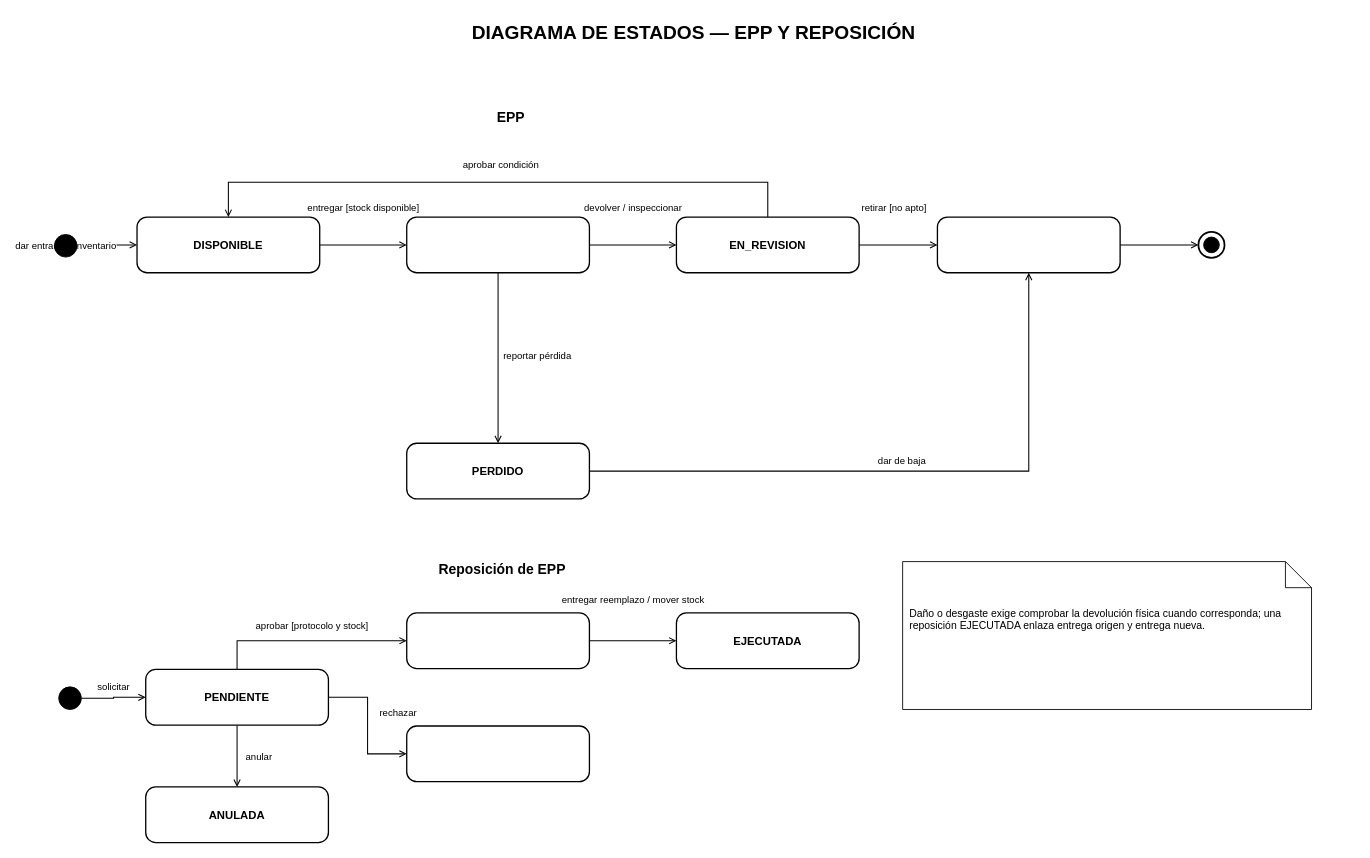
The diagram is 1370 pixels wide and 858 high, and some of its shapes have lost their labels. Each missing label, with the centre of its shape:
"APROBADA" goes at point 498,640.
"ENTREGADO" goes at point 498,244.
"RECHAZADA" goes at point 498,753.
"RETIRADO" goes at point 1028,244.
